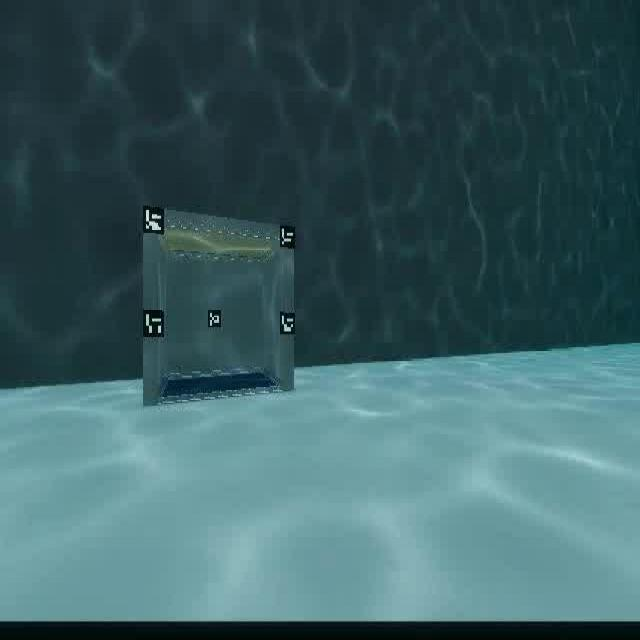Docking Station: (141, 192, 302, 409)
